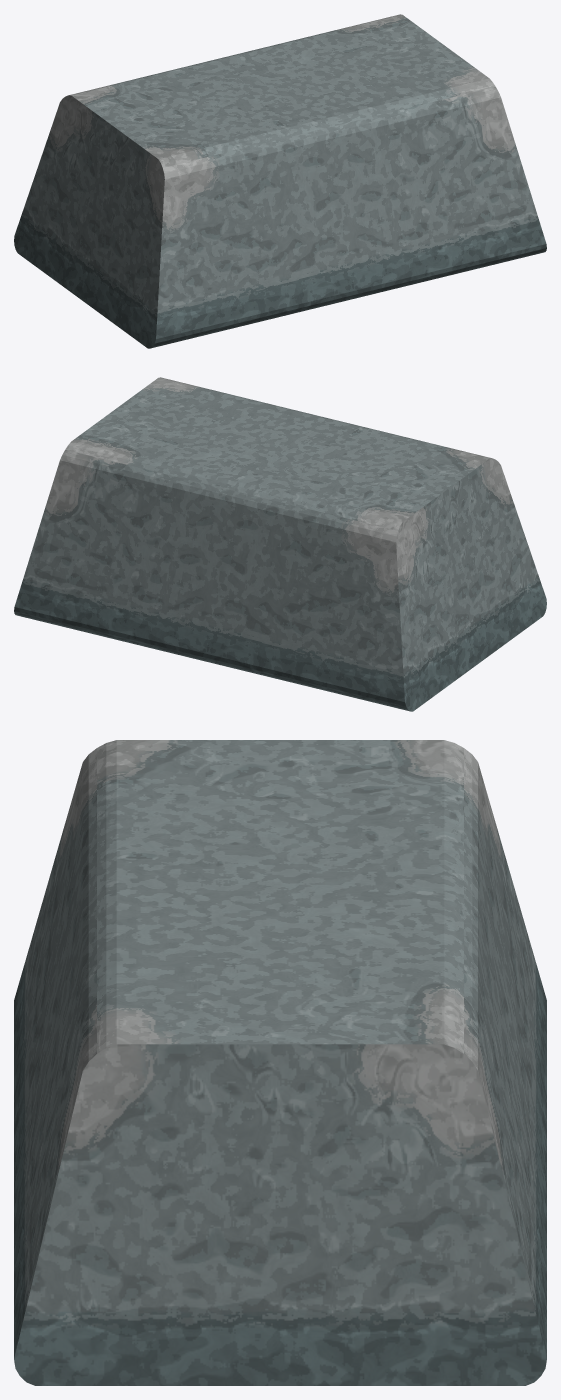
Rendered from silver_bar.fbx.
3 views of the same model, one above another, from view 1: azimuth 30°, elevation 25°; view 2: azimuth 150°, elevation 25°; view 3: azimuth 270°, elevation 25° (orthographic). The views are drawn at different scales.
Parts seen in each view (by area): view 1: Cube; view 2: Cube; view 3: Cube.
Boxes of the visible parts, bbox=[...] form: Cube: bbox=[14, 14, 546, 348]; Cube: bbox=[14, 377, 546, 711]; Cube: bbox=[14, 740, 546, 1385].
Size of the model in its own units: 315 by 126 by 195.
